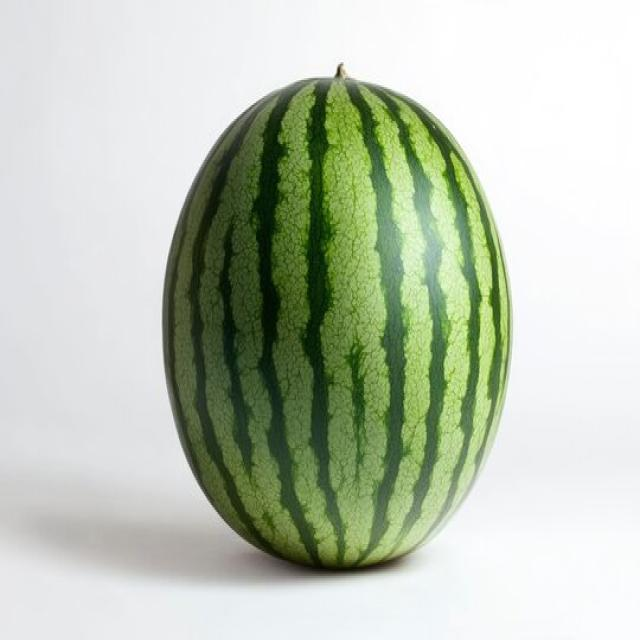Watermelon: (163, 76, 512, 569)
